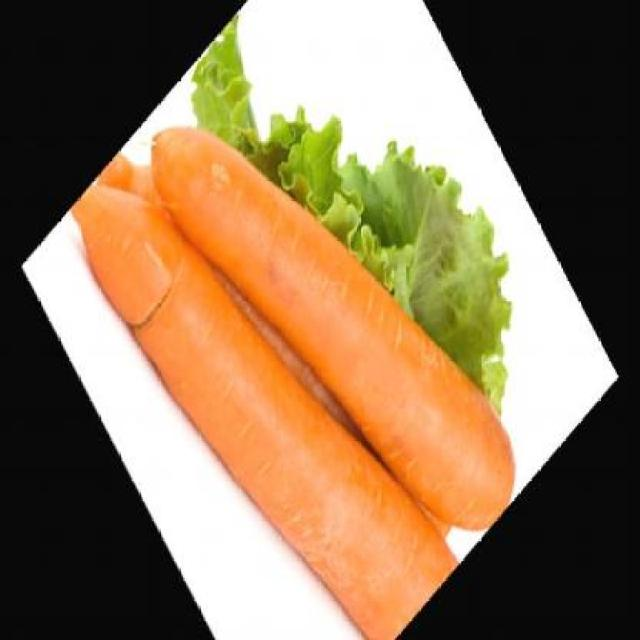carrot: (134, 0, 533, 638), (62, 59, 460, 638), (92, 128, 171, 247)
